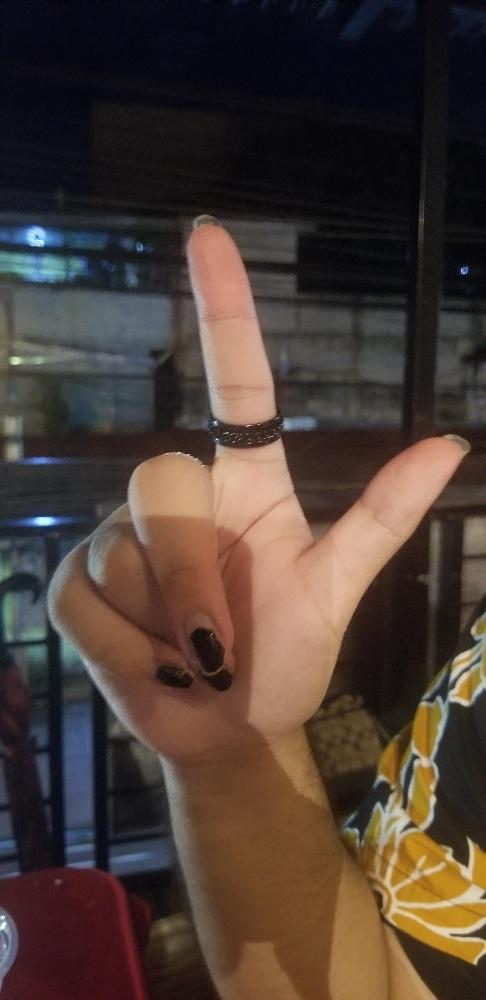l: (35, 208, 466, 750)
